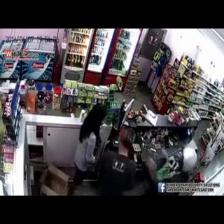person: (74, 105, 107, 186), (143, 148, 196, 195), (99, 129, 135, 195)
